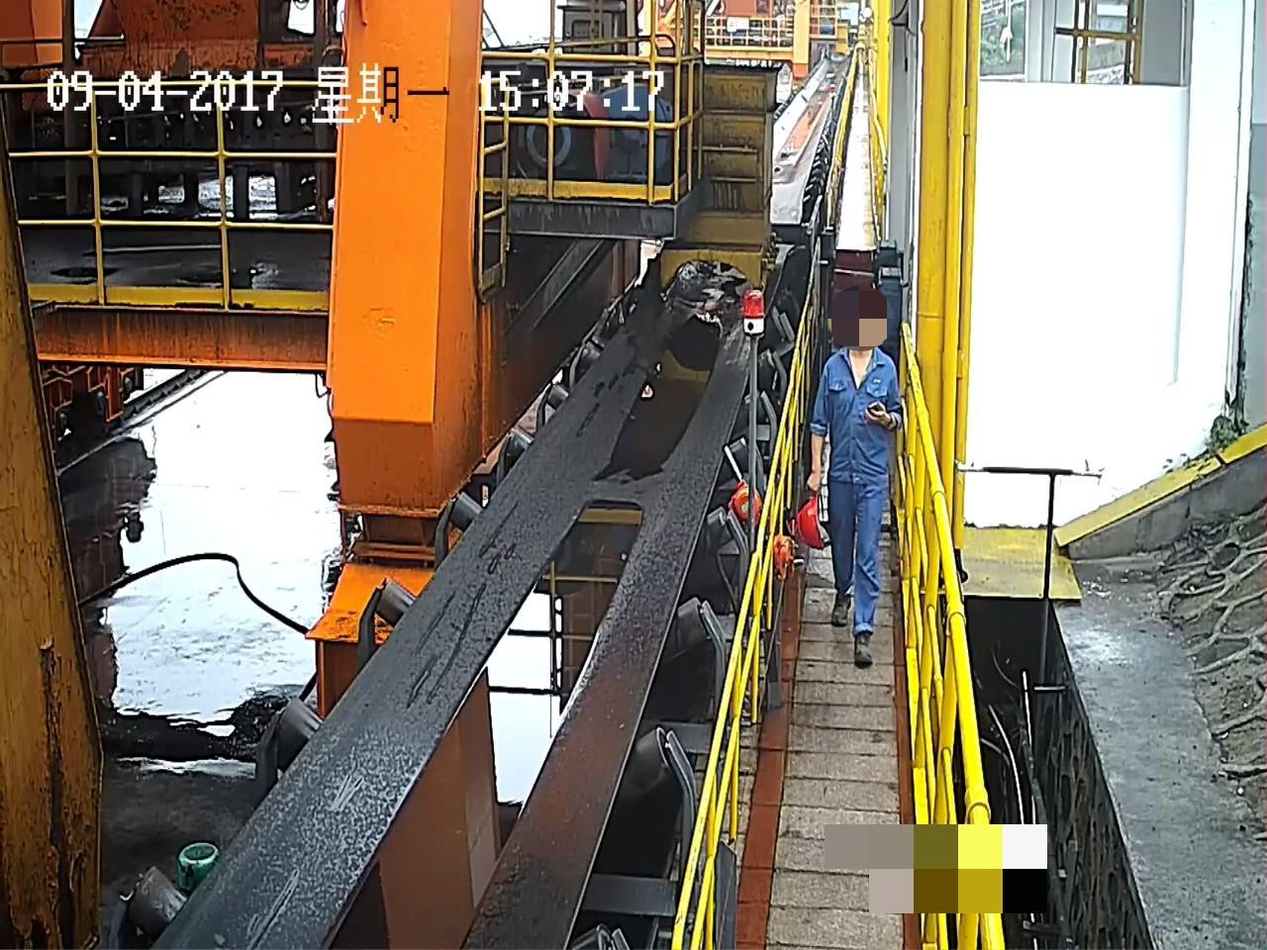person: (805, 286, 906, 664)
